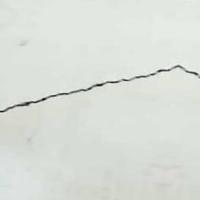crack: (0, 56, 199, 129)
